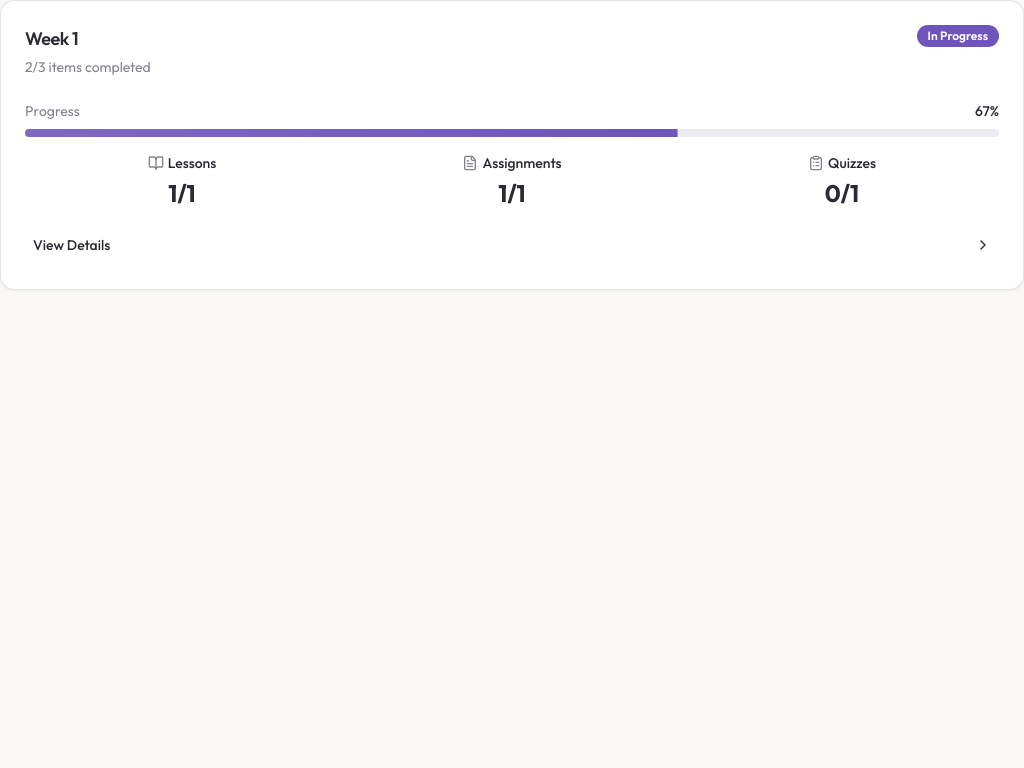
ModuleProgressCard (T-10 r2) › a graded submission and a finished quiz attempt are reported as assessment status
Click the button "View Details": [72, 245] box [25,225,999,265]
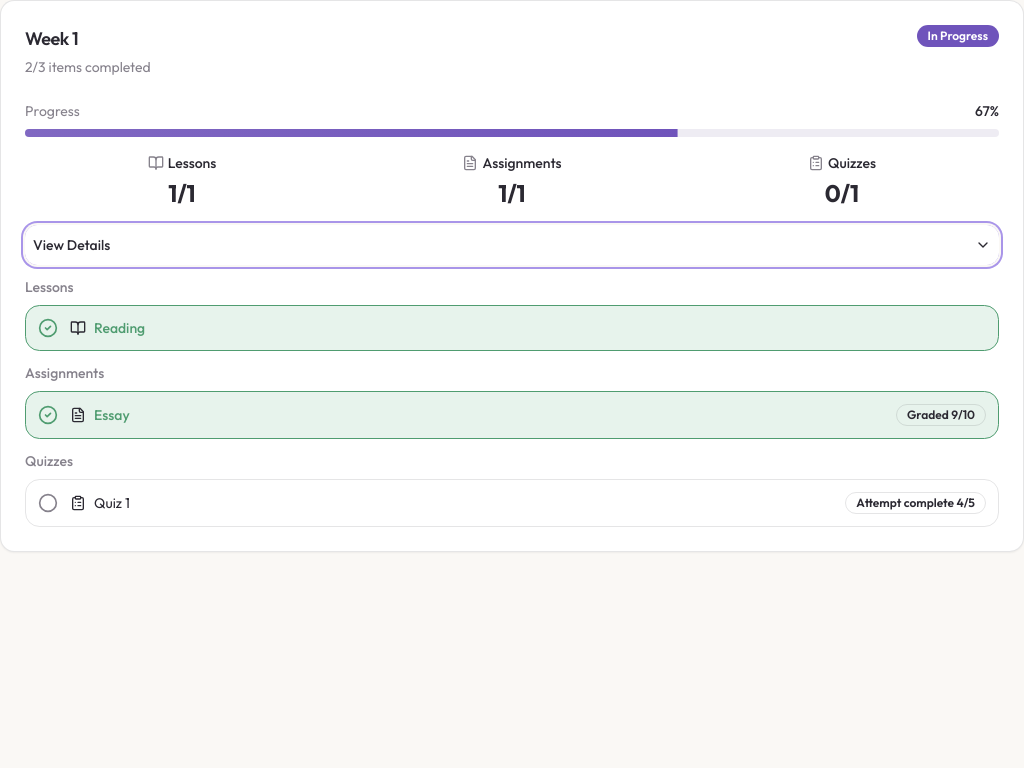
Expected: the text "2/3 items completed" is shown, [25,57,151,77]
Expected: the text with test id "assessment-a1" reads "Graded 9/10", [907,407,975,422]
Expected: the text with test id "assessment-q1" reads "Attempt complete 4/5", [856,495,975,510]
